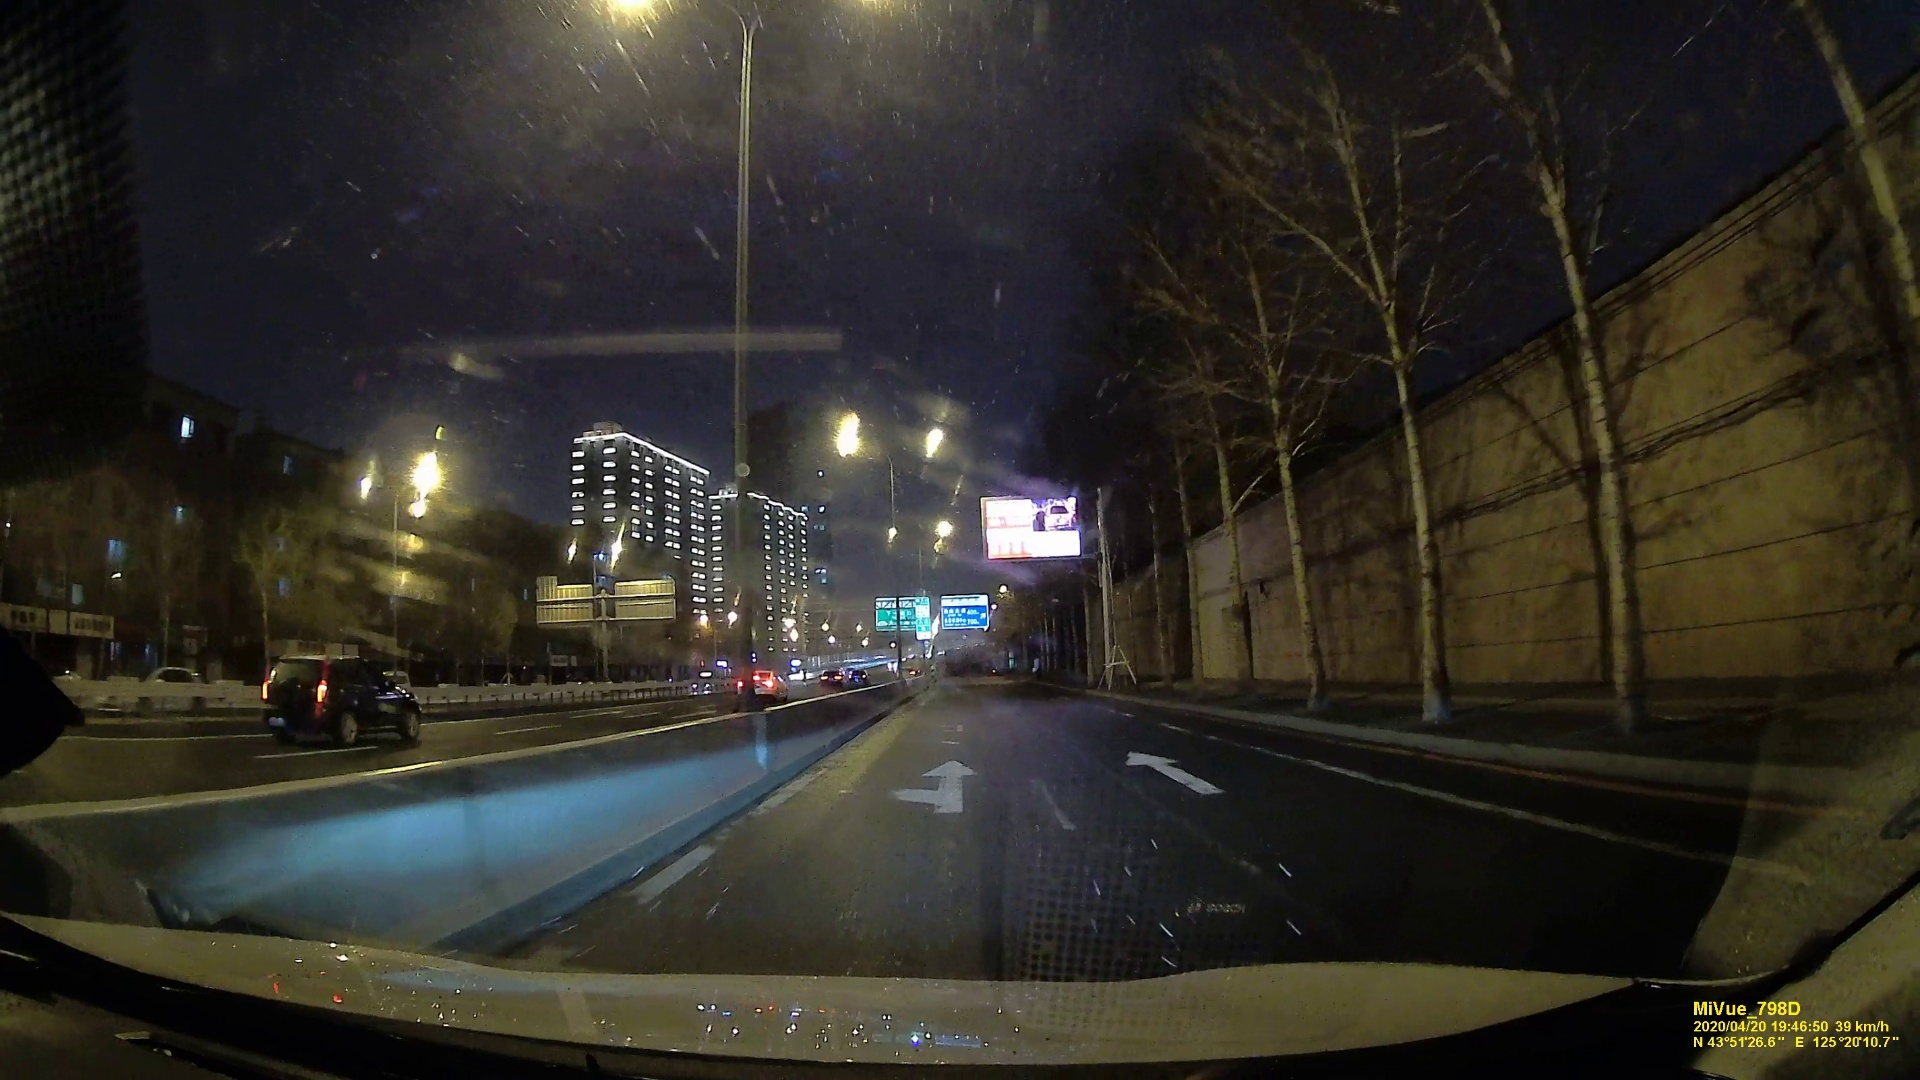traffic_sign: (876, 597, 928, 630), (942, 595, 985, 628)
vehicle: (253, 650, 421, 746), (736, 670, 789, 700), (820, 669, 845, 687)
